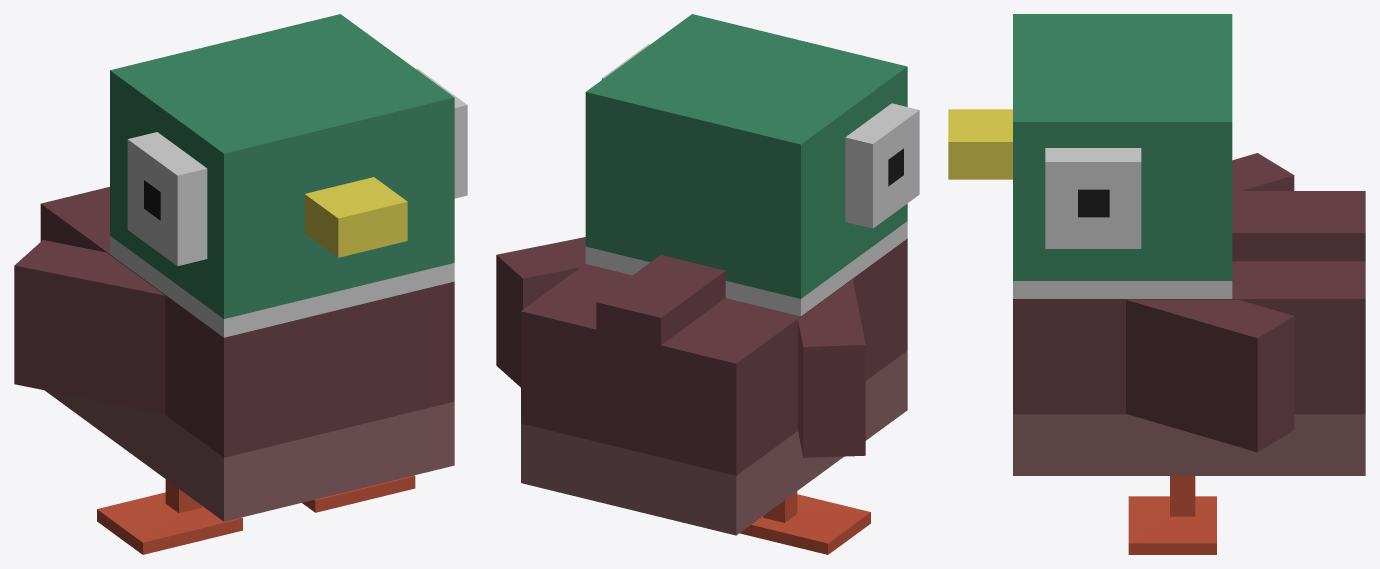
Rendered from bird_open.dae.
3 renders of one model, left to right at view 1: azimuth 30°, elevation 25°; view 2: azimuth 150°, elevation 25°; view 3: azimuth 270°, elevation 25°, orthographic. The views are drawn at different scales.
Parts seen in each view (by area): view 1: Cube_003; view 2: Cube_003; view 3: Cube_003.
Part boxes in pixels (box(x1,y1,x2,y2)): Cube_003: box(14, 14, 467, 554); Cube_003: box(496, 14, 919, 554); Cube_003: box(948, 14, 1365, 554).
Bounding box in the file's own units: 2.25 × 2.14 × 2.39.
